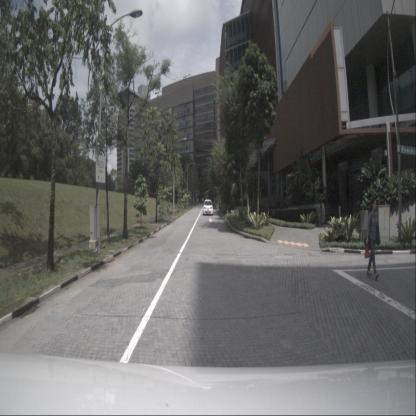human-pedestrian-adult: (364, 198, 381, 280)
vehicle-car: (203, 200, 213, 216)
